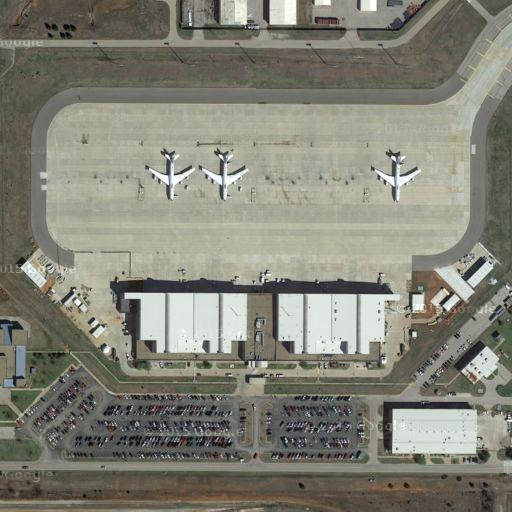E-8: (143, 147, 199, 204), (197, 147, 252, 201), (370, 148, 424, 203)
